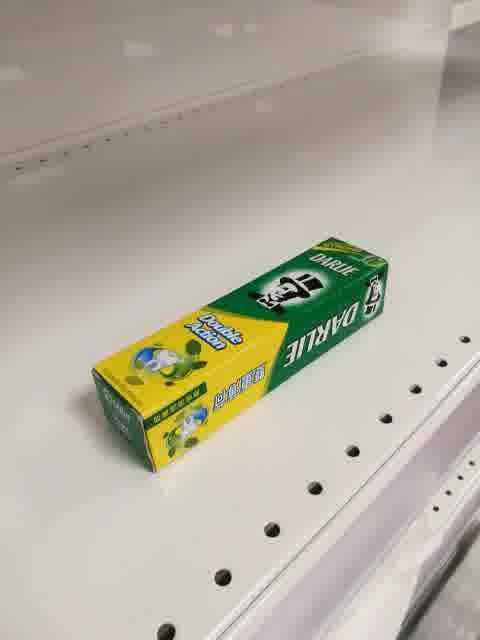toothpaste: (87, 236, 391, 474)
